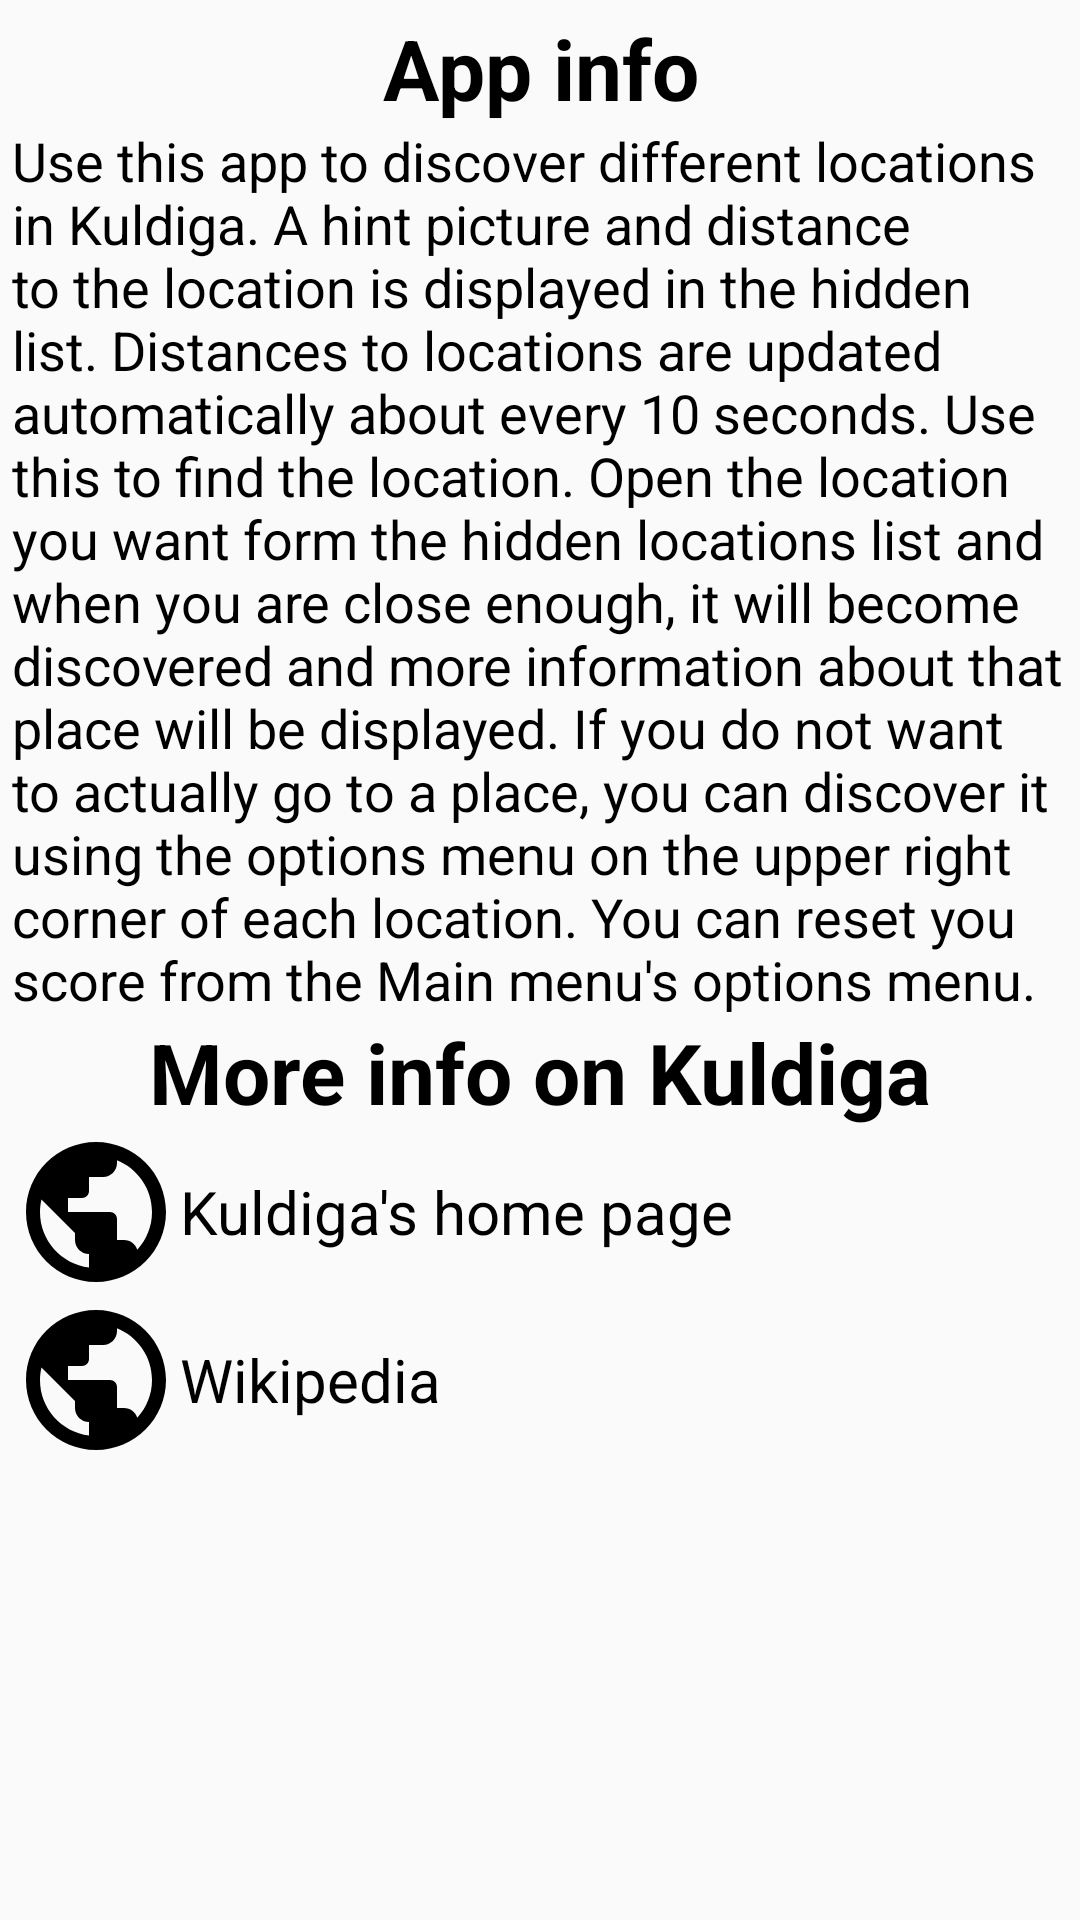

Point at icon controls on the screen. Image size 1080w x 1920h, points as (x,y).
globe: (96,1212), (96,1380)
